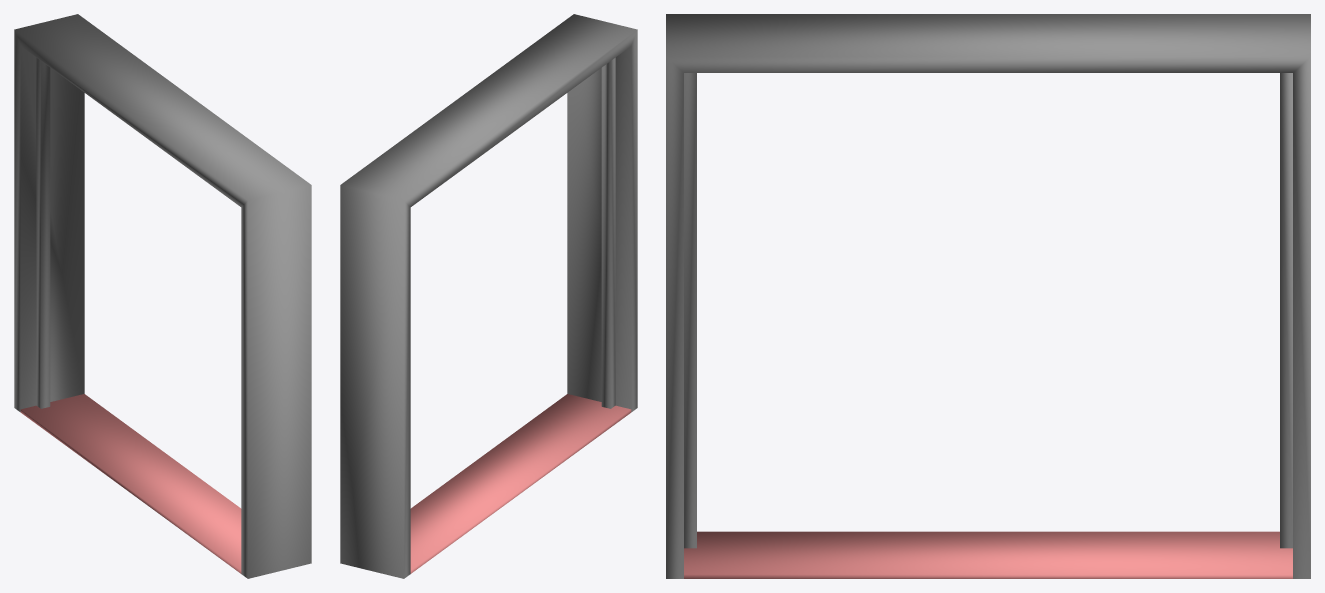
The model's file is SM_doorFrame_02.gltf.
3 renders of one model, left to right at view 1: azimuth 30°, elevation 25°; view 2: azimuth 150°, elevation 25°; view 3: azimuth 270°, elevation 25°, orthographic. The views are drawn at different scales.
Visible parts, largest first — view 1: SM_doorFrame_02; view 2: SM_doorFrame_02; view 3: SM_doorFrame_02.
Part boxes in pixels (x1,y1,x2,y2): SM_doorFrame_02: (14, 14, 311, 578); SM_doorFrame_02: (340, 14, 637, 578); SM_doorFrame_02: (666, 14, 1310, 578).
Bounding box in the file's own units: 0.4 × 2.27 × 2.54.
